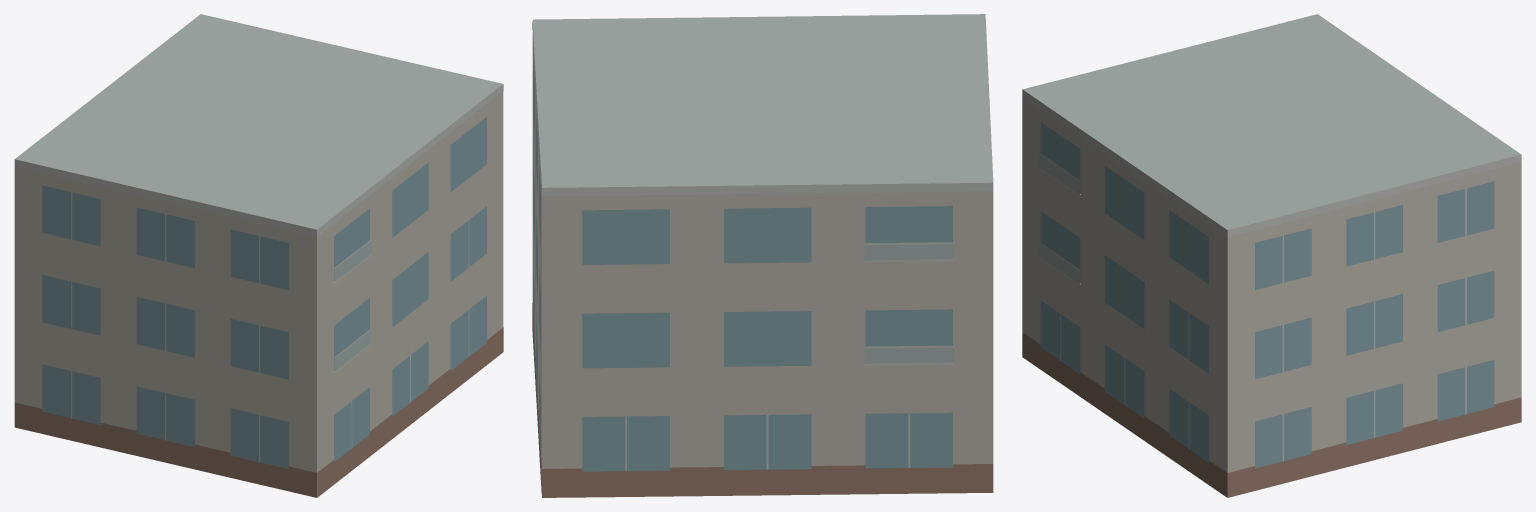
File: survey-upis-32805583.glb
3 renders of one model, left to right at view 1: azimuth 30°, elevation 25°; view 2: azimuth 150°, elevation 25°; view 3: azimuth 270°, elevation 25°, orthographic. The views are drawn at different scales.
Parts seen in each view (by area): view 1: survey-upis-32805583.tmp; view 2: survey-upis-32805583.tmp; view 3: survey-upis-32805583.tmp.
Boxes of the visible parts, box(x1,y1,x2,y2) form: survey-upis-32805583.tmp: box(14, 14, 503, 497); survey-upis-32805583.tmp: box(532, 14, 993, 497); survey-upis-32805583.tmp: box(1022, 14, 1521, 497).
Size of the model in its own units: 15.51 by 8.95 by 15.13.
